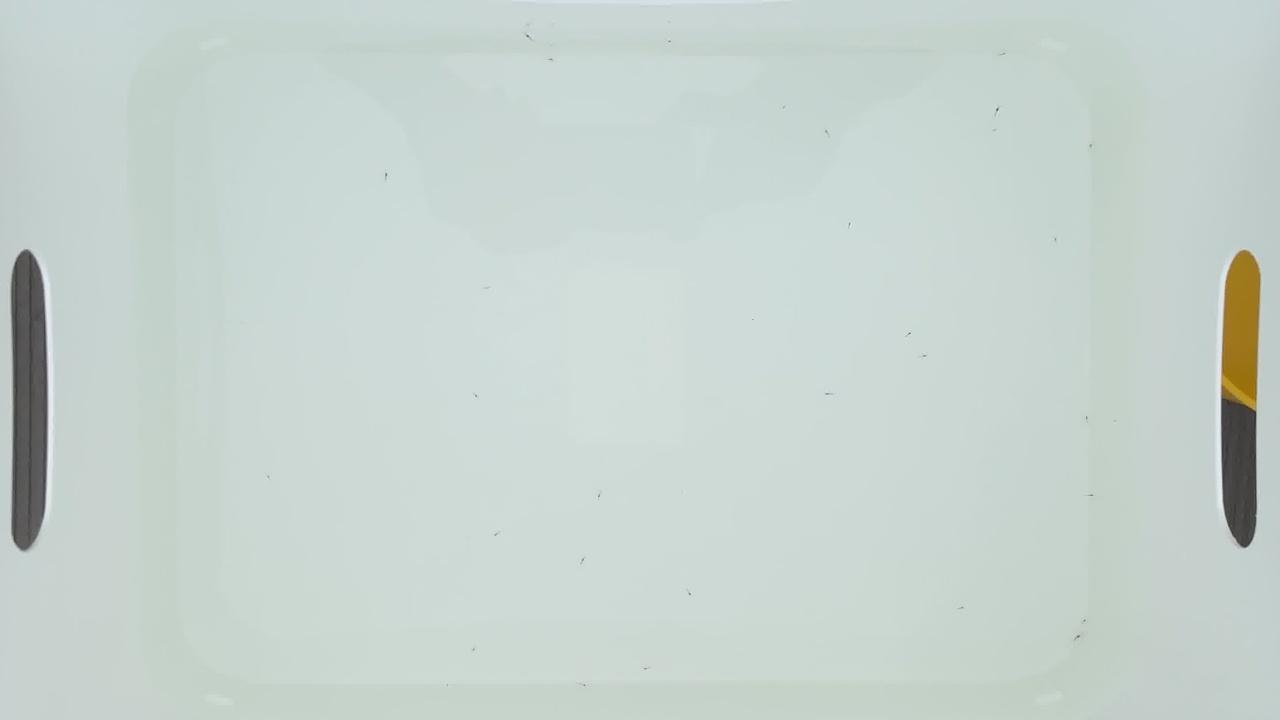shrimp: (1087, 490, 1100, 498), (1084, 412, 1097, 420), (1067, 450, 1080, 458), (997, 52, 1010, 60), (685, 589, 698, 597), (640, 667, 653, 675), (408, 140, 421, 148), (523, 30, 536, 38), (1075, 618, 1088, 625), (955, 608, 968, 615), (903, 332, 916, 339), (821, 388, 834, 395), (844, 223, 857, 230), (993, 105, 1006, 112), (576, 682, 589, 689), (579, 558, 592, 565), (594, 492, 607, 499), (471, 395, 484, 402), (262, 477, 275, 484), (481, 290, 494, 297), (380, 174, 393, 181), (367, 162, 380, 169), (665, 36, 678, 43), (1072, 633, 1084, 640), (917, 353, 929, 360), (823, 129, 835, 136), (779, 106, 791, 113), (989, 129, 1001, 136), (1083, 142, 1095, 149), (1050, 238, 1062, 245), (469, 648, 481, 655), (491, 531, 503, 538), (546, 56, 558, 63)
